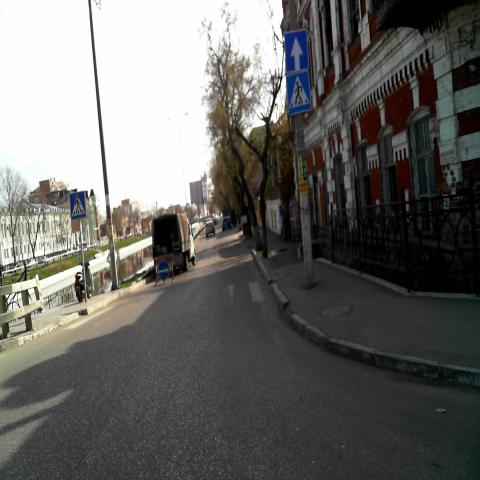4_1_2_1: (158, 258, 170, 282)
5_5: (284, 34, 308, 74)
